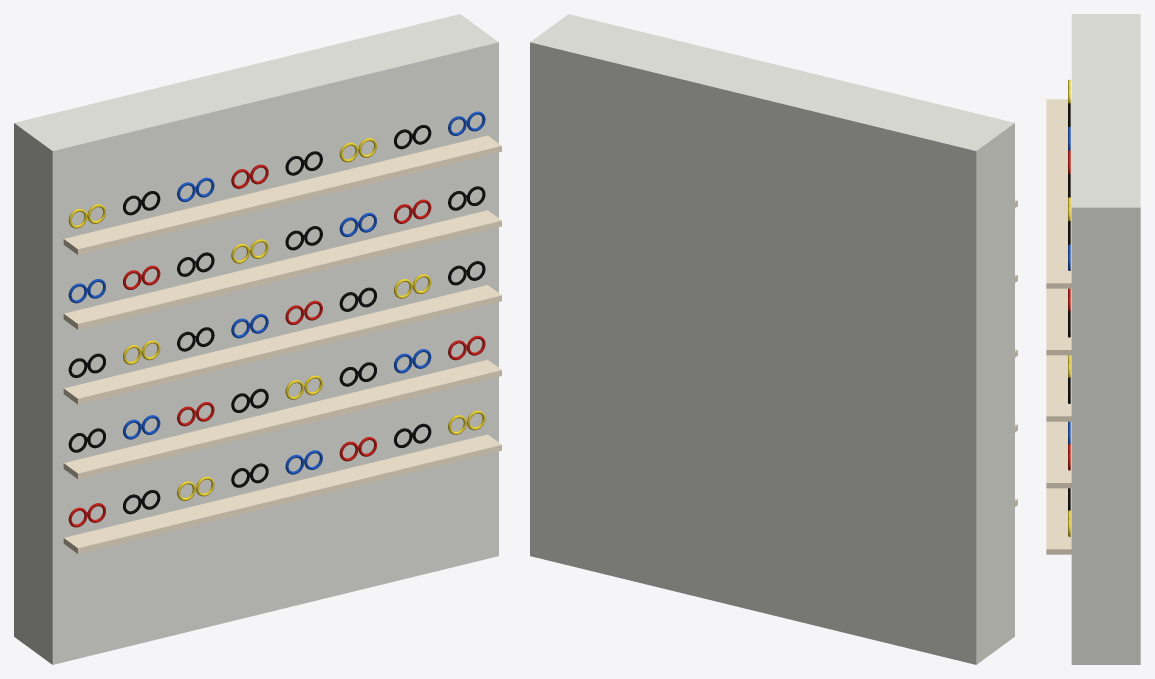
Rendered from glasses_wall.glb.
3 renders of one model, left to right at view 1: azimuth 30°, elevation 25°; view 2: azimuth 150°, elevation 25°; view 3: azimuth 270°, elevation 25°, orthographic. The views are drawn at different scales.
Visible parts, largest first — view 1: glasses_wall; view 2: glasses_wall; view 3: glasses_wall.
Boxes of the visible parts, <box> form: glasses_wall: <box>14,14,501,664</box>; glasses_wall: <box>530,14,1017,664</box>; glasses_wall: <box>1046,14,1140,664</box>.
Bounding box in the file's own units: 2 × 2.2 × 0.41.
1 material, 1 textured.
